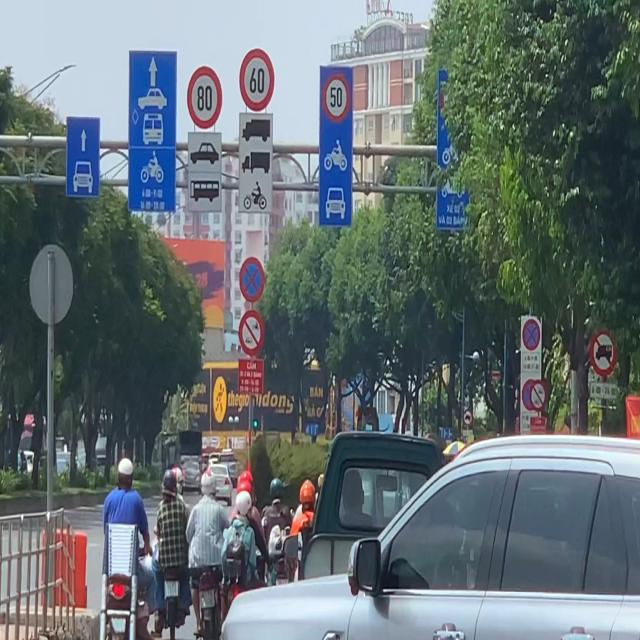Cam con lai: (590, 328, 617, 377), (463, 409, 472, 426)
Cam dung va do: (239, 257, 265, 302), (522, 318, 541, 352)
Toc do toi da: (186, 65, 222, 129), (239, 48, 275, 112), (322, 74, 351, 122)
